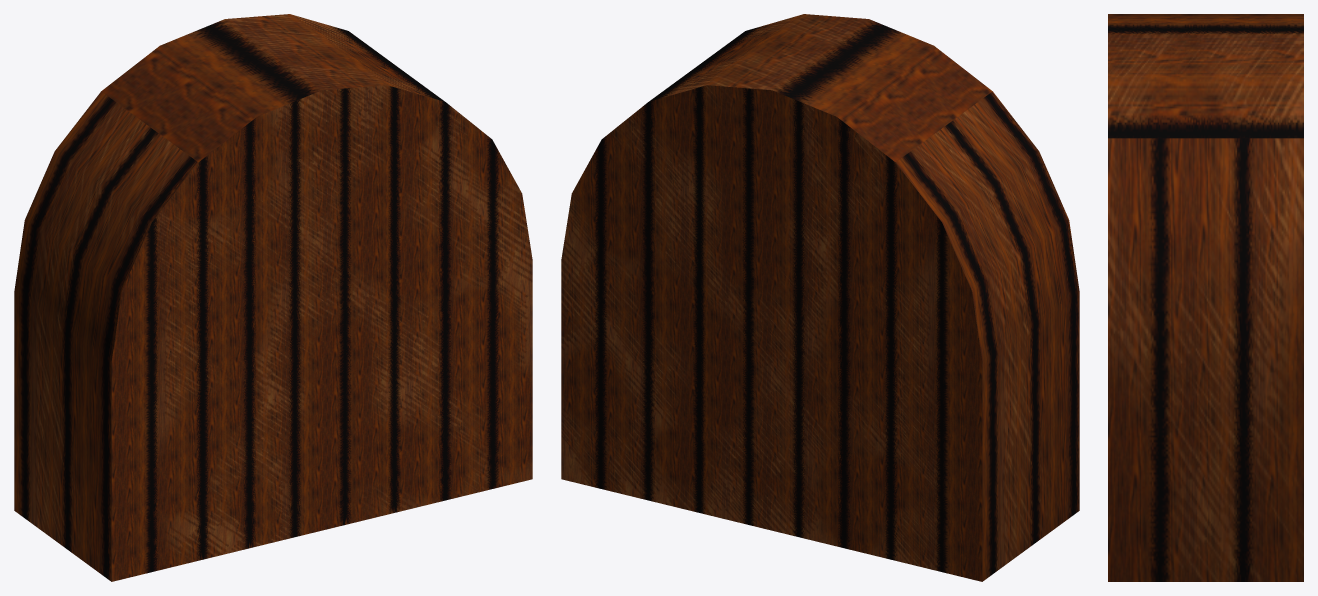
File: door_1.fbx
3 views of the same model, side by side, from view 1: azimuth 30°, elevation 25°; view 2: azimuth 150°, elevation 25°; view 3: azimuth 270°, elevation 25° (orthographic).
Visible parts, largest first — view 1: pCylinder1; view 2: pCylinder1; view 3: pCylinder1.
Part boxes in pixels (bbox=[...]): pCylinder1: bbox=[14, 14, 532, 581]; pCylinder1: bbox=[561, 14, 1079, 581]; pCylinder1: bbox=[1108, 14, 1303, 581].
Bounding box in the file's own units: 1 × 1 × 0.4.
1 material, 1 textured.
